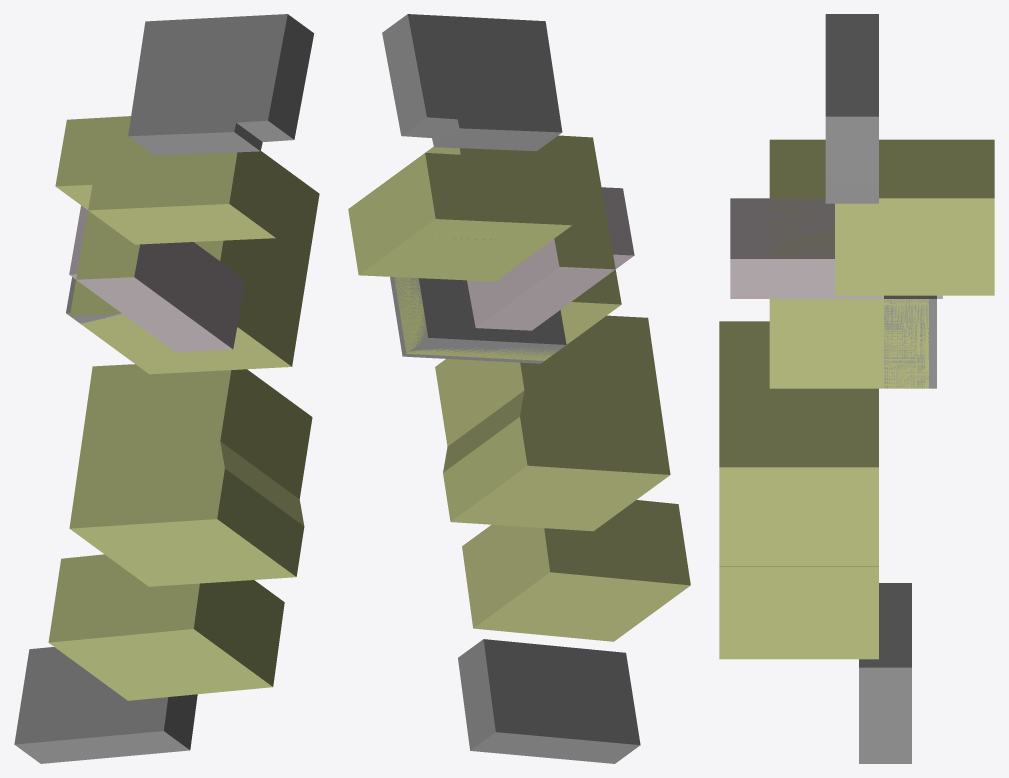
3 renders of one model, left to right at view 1: azimuth 30°, elevation 25°; view 2: azimuth 150°, elevation 25°; view 3: azimuth 270°, elevation 25°, orthographic. The views are drawn at different scales.
Parts seen in each view (by area): view 1: 0_1_2_0_3_3_2_1; view 2: 0_1_2_0_3_3_2_1; view 3: 0_1_2_0_3_3_2_1.
Boxes of the visible parts, <box> form: 0_1_2_0_3_3_2_1: <box>14,14,319,763</box>; 0_1_2_0_3_3_2_1: <box>348,14,690,763</box>; 0_1_2_0_3_3_2_1: <box>719,14,994,763</box>.
Size of the model in its own units: 16.79 by 45.61 by 15.53.
